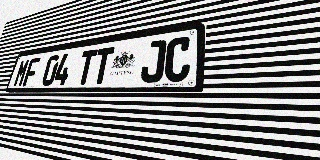0: (41, 54, 61, 86)
4: (53, 53, 73, 86)
C: (163, 36, 192, 82)
F: (22, 57, 41, 86)
J: (140, 39, 167, 83)
M: (13, 59, 30, 87)
T: (91, 47, 115, 84), (75, 49, 98, 85)
